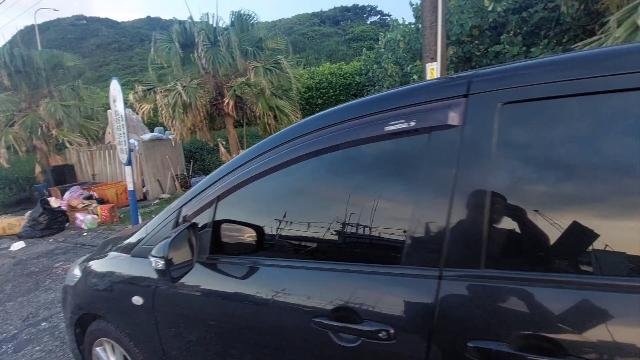pollute: (1, 180, 129, 238), (10, 240, 26, 251)
